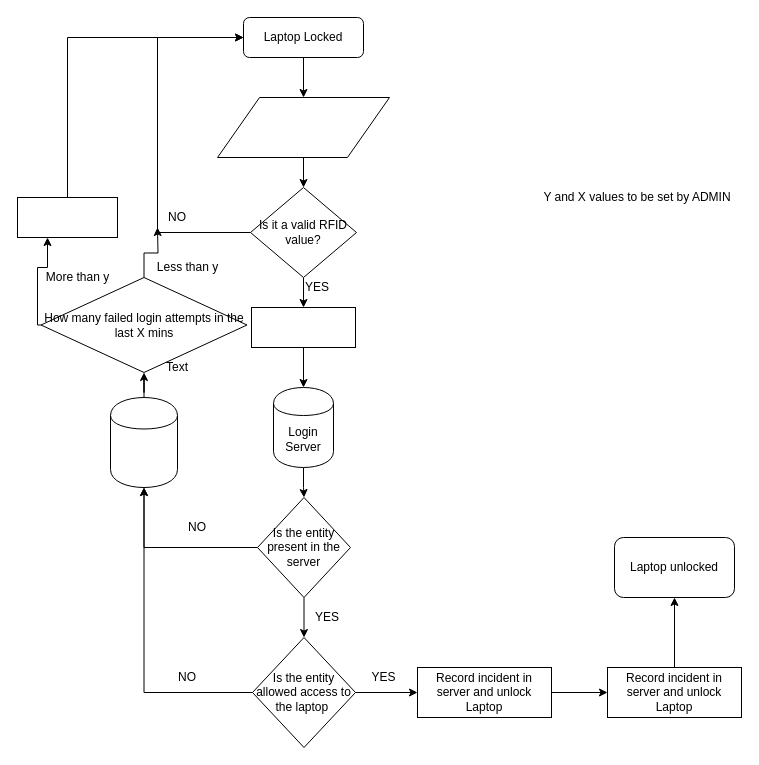
This 759x765 diagram has some shape labels left out. The centre of each missing label's shape, as x and y in pixels:
"Email Admin" goes at [67,217].
"RFID input" goes at [303,127].
"Send failed attempt to server" goes at [144,442].
"Send RFID Entity to server" goes at [303,327].
